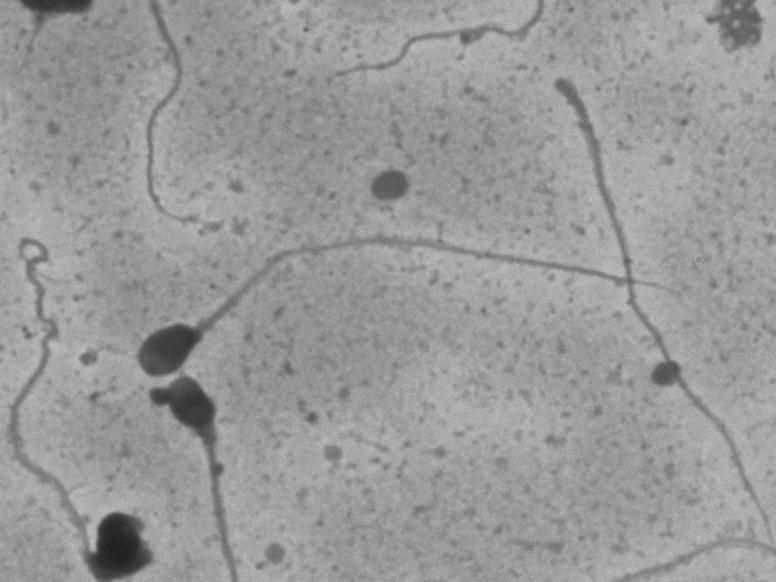Abnormal: (122, 220, 695, 390), (20, 464, 171, 576)
